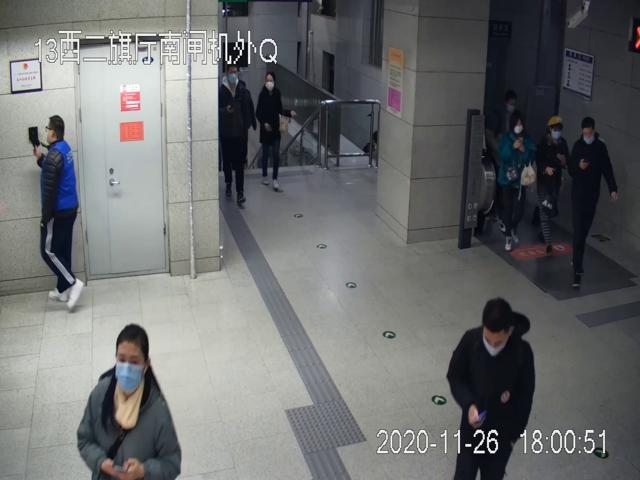person: (446, 296, 538, 480), (30, 115, 87, 315), (571, 116, 617, 286), (495, 111, 534, 252), (218, 62, 256, 205), (256, 72, 296, 192), (539, 115, 571, 250)
